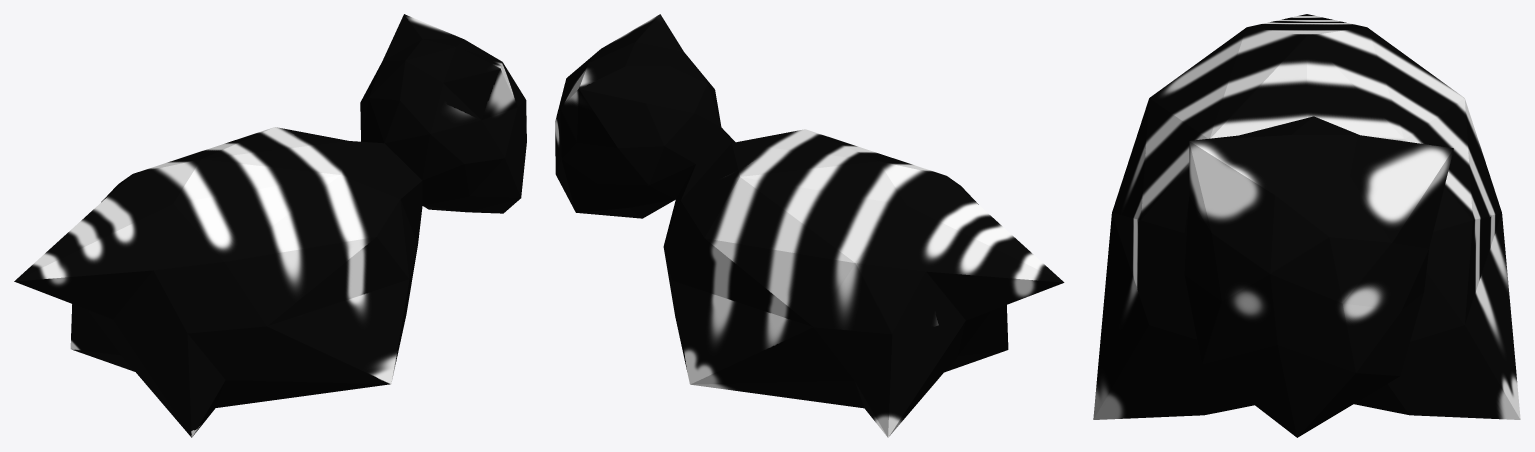
3 views of the same model, side by side, from view 1: azimuth 30°, elevation 25°; view 2: azimuth 150°, elevation 25°; view 3: azimuth 270°, elevation 25° (orthographic). The views are drawn at different scales.
Visible parts, largest first — view 1: 棱角球; view 2: 棱角球; view 3: 棱角球.
Part boxes in pixels (x1,y1,x2,y2): 棱角球: (14,14,526,437); 棱角球: (555,14,1064,437); 棱角球: (1093,14,1520,437).
Size of the model in its own units: 4.4 by 2.32 by 2.19.
Materials: 1 (1 with a texture image).
